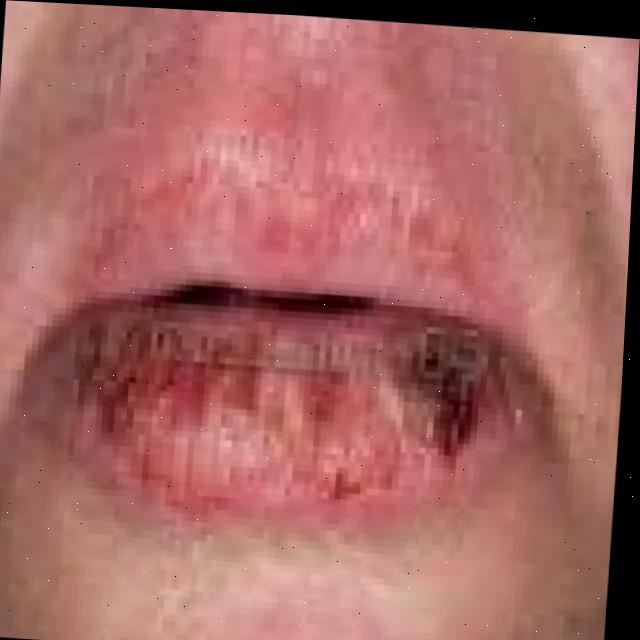Melasma: (29, 292, 491, 500)
